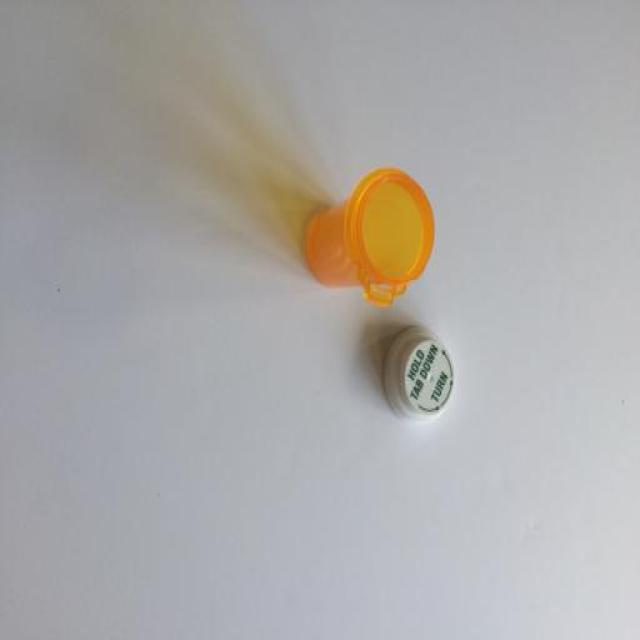Plastic: (302, 167, 434, 307), (381, 325, 455, 423)
